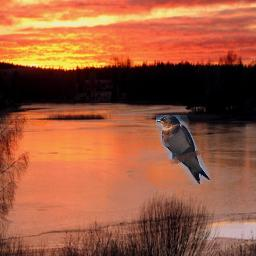Swallow: (156, 115, 210, 184)
